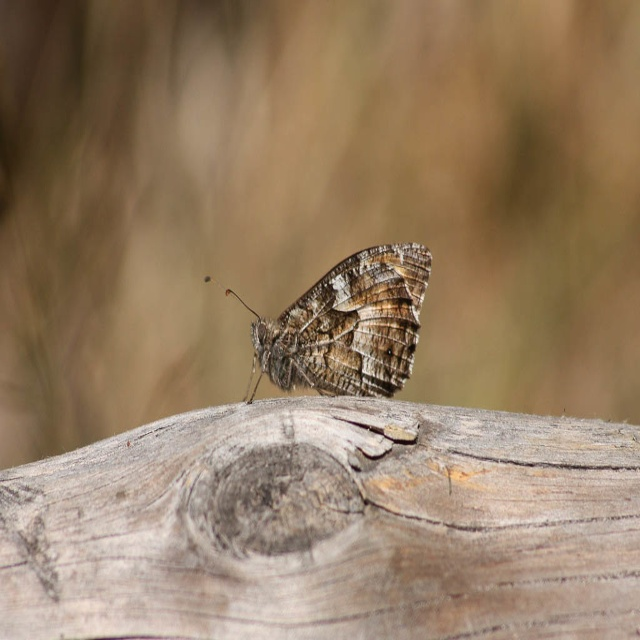Butterfly: (201, 232, 441, 406)
